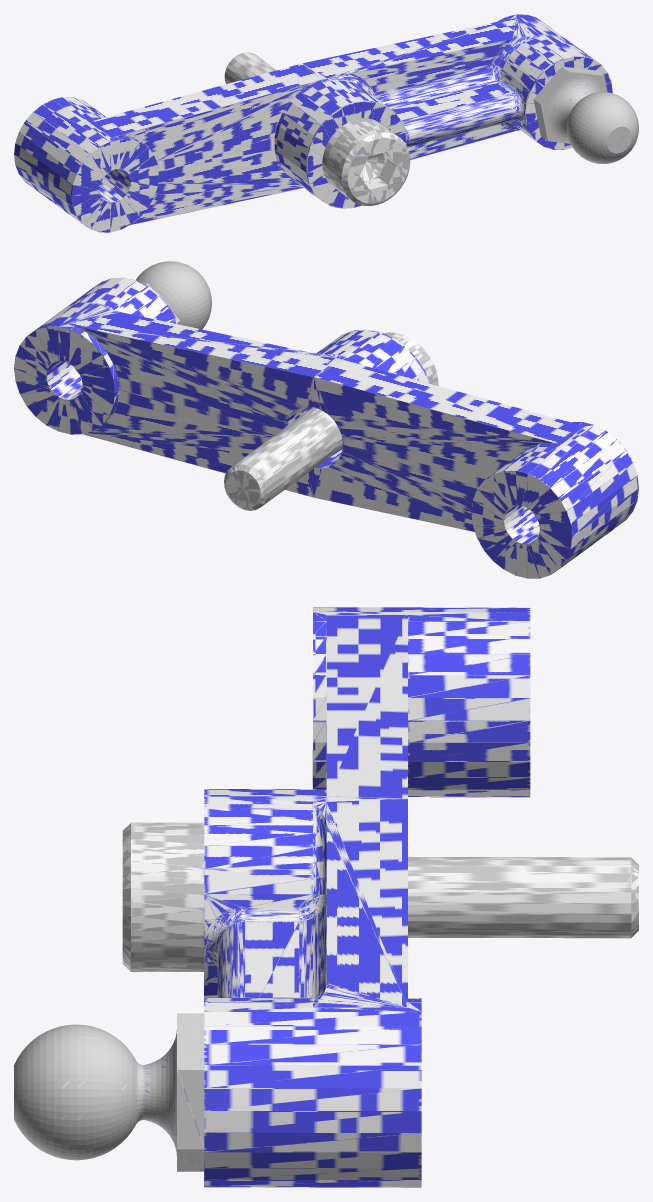
Rendered from Crank_Left.dae.
3 renders of one model, top to bottom at view 1: azimuth 30°, elevation 25°; view 2: azimuth 150°, elevation 25°; view 3: azimuth 270°, elevation 25°, orthographic. The views are drawn at different scales.
Visible parts, largest first — view 1: node; view 2: node; view 3: node.
Boxes of the visible parts, bbox=[...] form: node: bbox=[14, 14, 638, 232]; node: bbox=[14, 261, 638, 578]; node: bbox=[14, 607, 638, 1187].
Bounding box in the file's own units: 0.041 × 0.008 × 0.023.
Materials: 1 (1 with a texture image).
